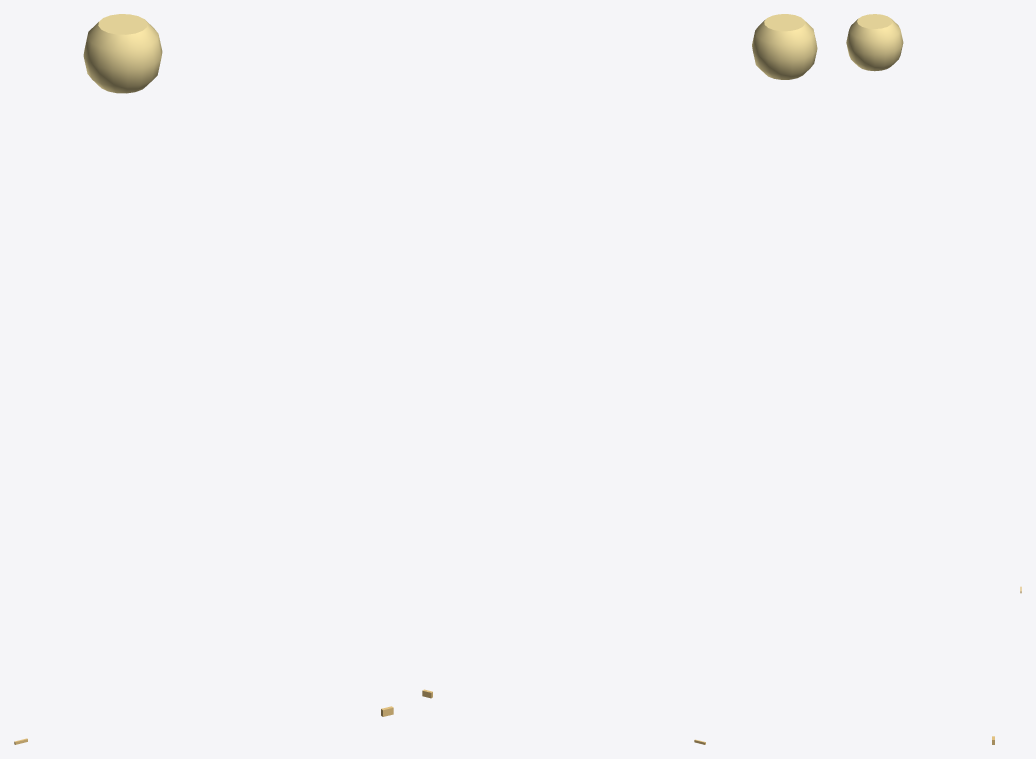
File: SM_Lighthouse_NoCol.fbx
3 renders of one model, left to right at view 1: azimuth 30°, elevation 25°; view 2: azimuth 150°, elevation 25°; view 3: azimuth 270°, elevation 25°, orthographic. The views are drawn at different scales.
Parts seen in each view (by area): view 1: SM_Lighthouse_NoCol; view 2: SM_Lighthouse_NoCol; view 3: SM_Lighthouse_NoCol.
Boxes of the visible parts, <box> form: SM_Lighthouse_NoCol: <box>14,14,393,744</box>; SM_Lighthouse_NoCol: <box>422,14,817,744</box>; SM_Lighthouse_NoCol: <box>846,14,1021,744</box>.
Bounding box in the file's own units: 8.98 × 18.53 × 4.91.
